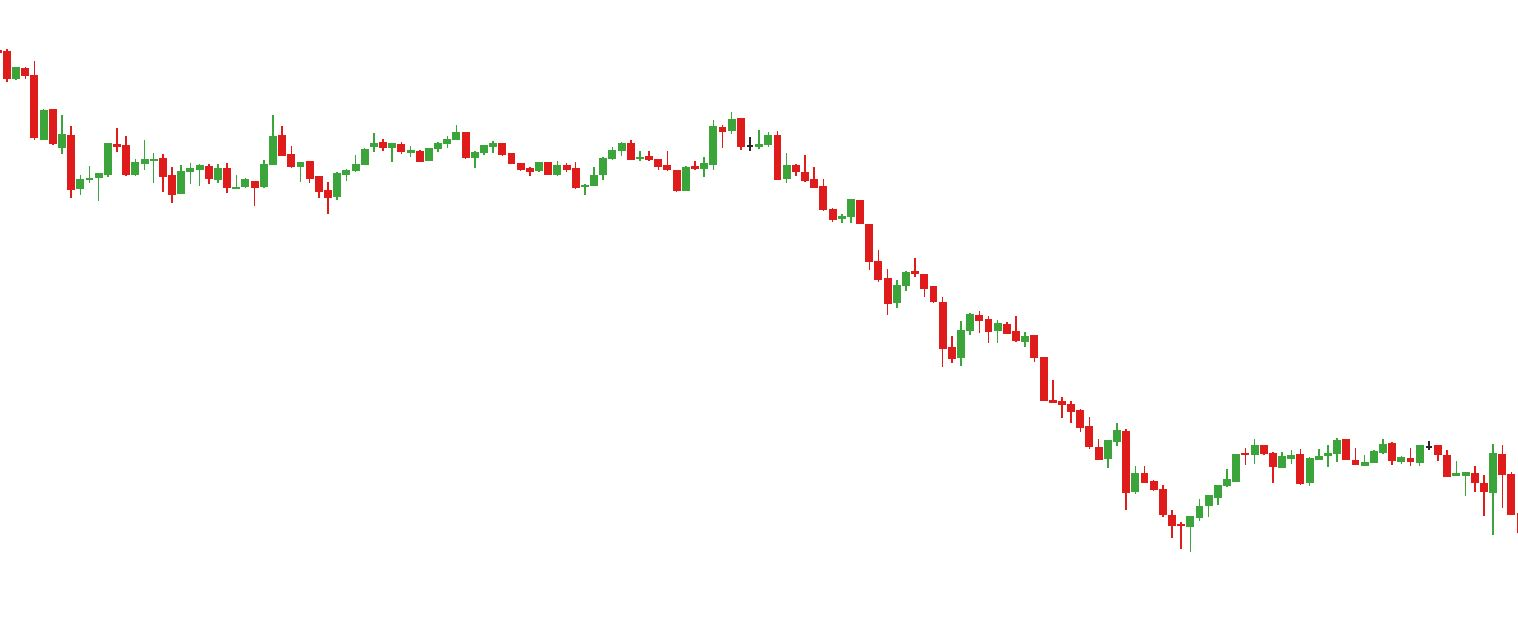buy: (251, 146, 342, 217)
sell: (614, 110, 746, 169)
